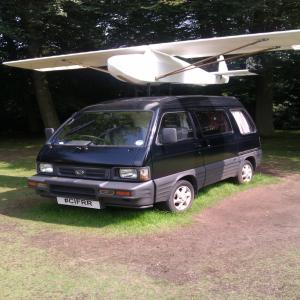Vehicle-registration-plate: (57, 198, 102, 209)
